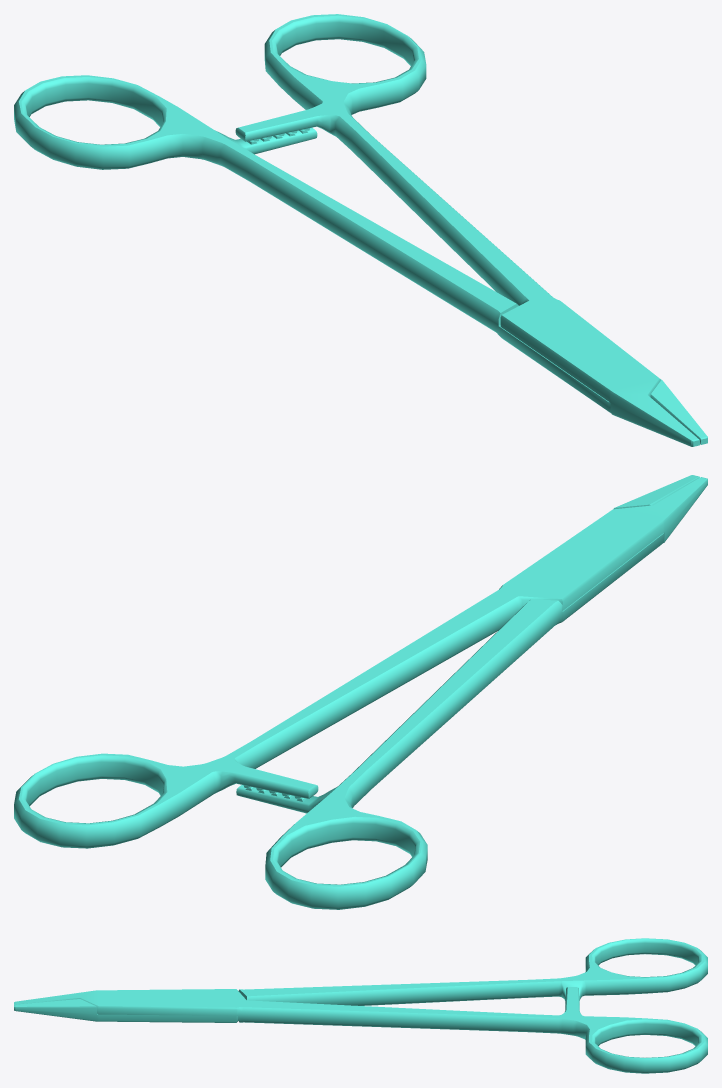
Rendered from needle_forceps.FBX.
3 views of the same model, one above another, from view 1: azimuth 30°, elevation 25°; view 2: azimuth 150°, elevation 25°; view 3: azimuth 270°, elevation 25° (orthographic). The views are drawn at different scales.
Parts seen in each view (by area): view 1: needle_forceps_p1, needle_forceps_p2; view 2: needle_forceps_p1, needle_forceps_p2; view 3: needle_forceps_p1, needle_forceps_p2.
Part boxes in pixels (x1,y1,x2,y2): needle_forceps_p1: (235, 14, 699, 446); needle_forceps_p2: (14, 75, 707, 444); needle_forceps_p1: (14, 477, 707, 848); needle_forceps_p2: (236, 475, 699, 909); needle_forceps_p1: (14, 987, 707, 1073); needle_forceps_p2: (14, 938, 707, 1022).
Size of the model in its own units: 3.65 by 8.7 by 0.211.
